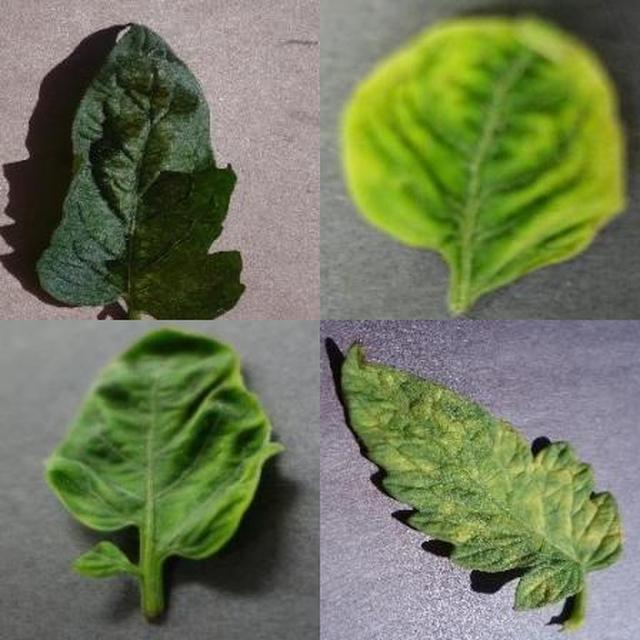Spider Mites Leaf: (199, 221, 640, 640)
